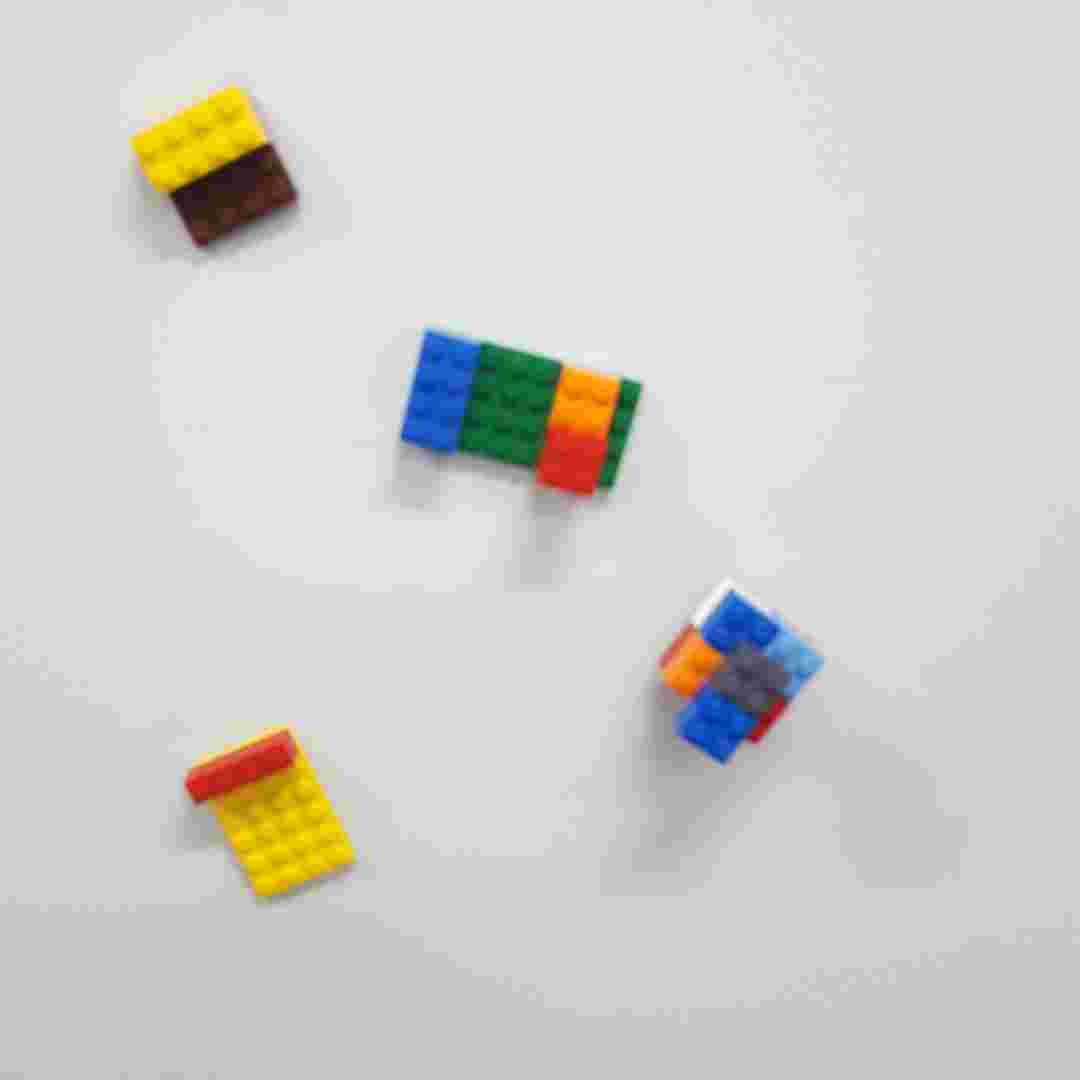LEGO: (396, 320, 646, 508), (655, 572, 827, 773), (122, 76, 312, 257), (178, 719, 361, 904)
